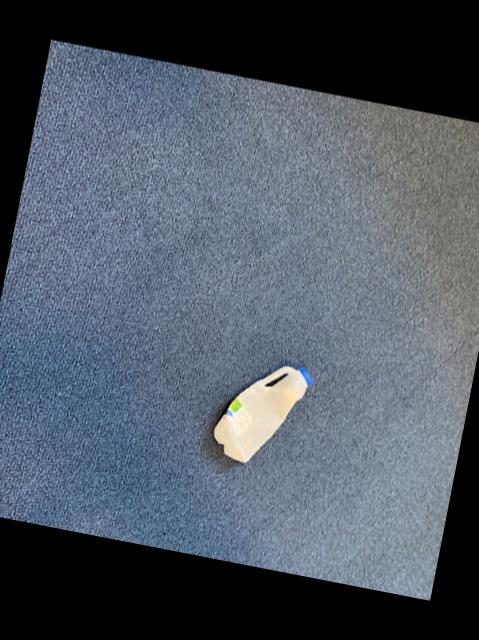plastic: (214, 367, 311, 463)
